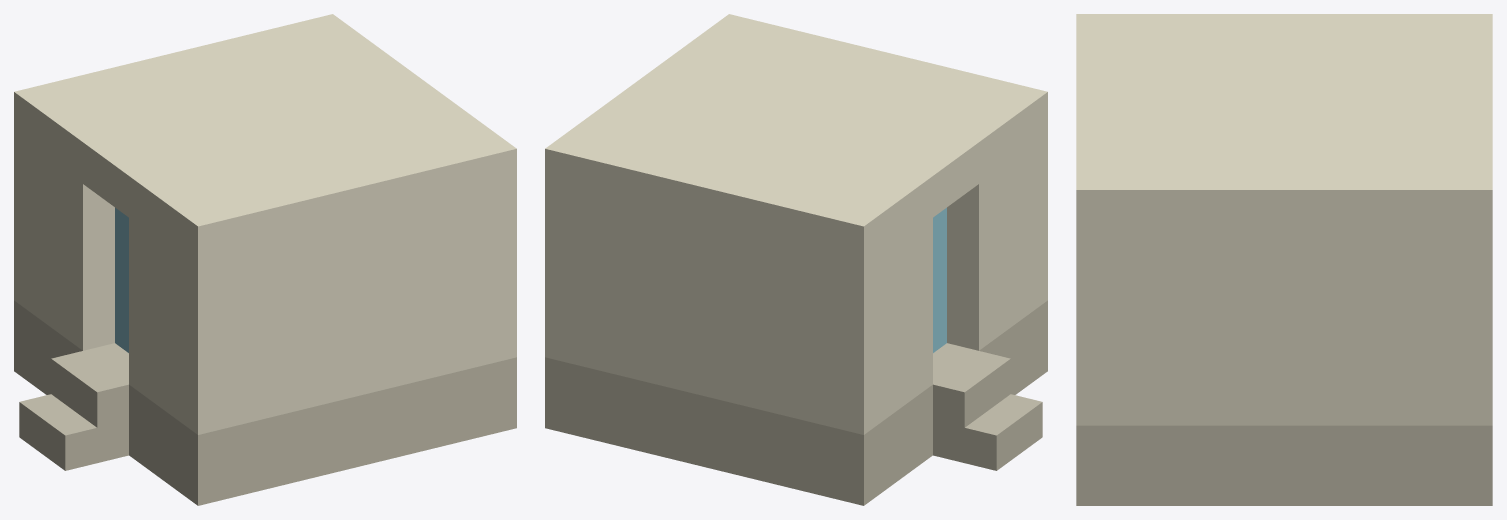
File: modularBuildings_027.fbx
The picture shows the model from 3 angles, left to right: view 1: azimuth 30°, elevation 25°; view 2: azimuth 150°, elevation 25°; view 3: azimuth 270°, elevation 25°; orthographic projection. The views are drawn at different scales.
Visible parts, largest first — view 1: Mesh1_Group1 Model; view 2: Mesh1_Group1 Model; view 3: Mesh1_Group1 Model.
Part boxes in pixels (x1,y1,x2,y2): Mesh1_Group1 Model: [14, 14, 516, 505]; Mesh1_Group1 Model: [545, 14, 1047, 505]; Mesh1_Group1 Model: [1076, 14, 1492, 505].
Size of the model in its own units: 1.2 by 0.8375 by 1.
